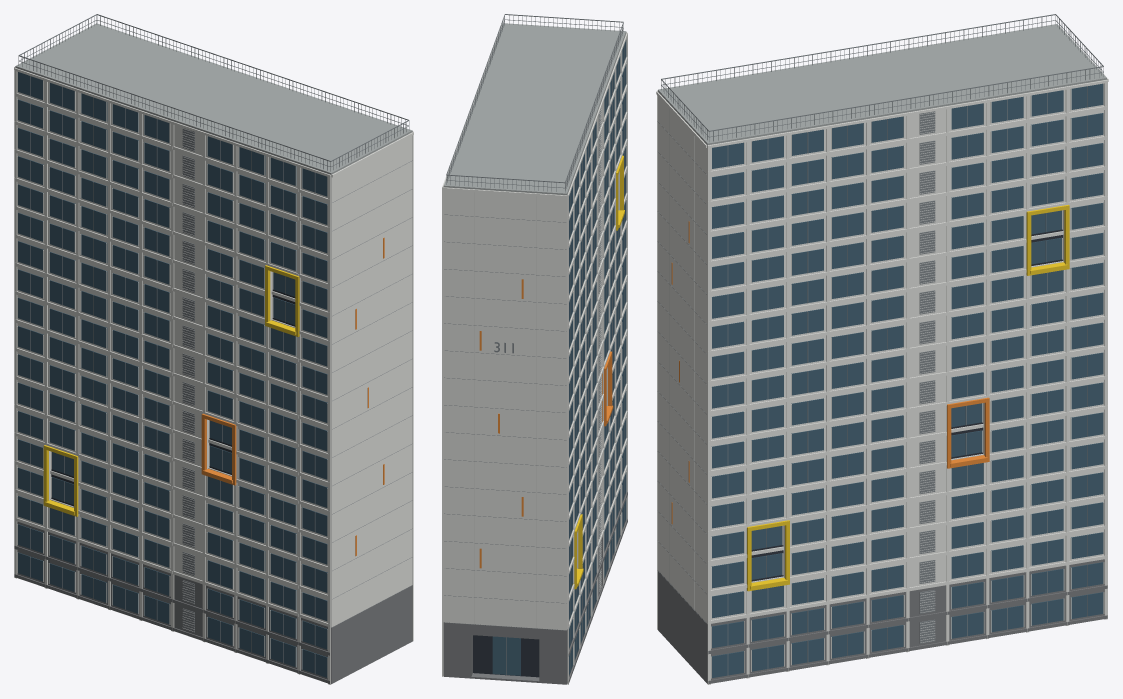
The model's file is bespoke-songpa-helio-city-311.glb.
The picture shows the model from 3 angles, left to right: view 1: azimuth 30°, elevation 25°; view 2: azimuth 150°, elevation 25°; view 3: azimuth 270°, elevation 25°; orthographic projection. The views are drawn at different scales.
Parts seen in each view (by area): view 1: Helio311_editable_Helio311_white_slab_frames, Helio311_editable_Helio311_dark_blue_grey_glazing, Helio311_editable_Helio311_low_roof_deck, Helio311_editable_Helio311_grey_service_grille, Helio311_editable_Helio311_dark_grey_twofloor_base, Helio311_editable_Helio311_blankwall_grey_panels, Helio311_editable_Helio311_yellow_projecting_rectangular_fra, Helio311_editable_Helio311_orange_narrow_accent; view 2: Helio311_editable_Helio311_white_slab_frames, Helio311_editable_Helio311_low_roof_deck, Helio311_editable_Helio311_dark_blue_grey_glazing, Helio311_editable_Helio311_grey_service_grille, Helio311_editable_Helio311_dark_grey_twofloor_base, Helio311_editable_Helio311_blankwall_grey_panels, Helio311_editable_Helio311_deep_shaded_frame_recess, Helio311_editable_Helio311_yellow_projecting_rectangular_fra, Helio311_editable_Helio311_orange_narrow_accent; view 3: Helio311_editable_Helio311_dark_blue_grey_glazing, Helio311_editable_Helio311_white_slab_frames, Helio311_editable_Helio311_low_roof_deck, Helio311_editable_Helio311_grey_service_grille, Helio311_editable_Helio311_dark_grey_twofloor_base, Helio311_editable_Helio311_blankwall_grey_panels, Helio311_editable_Helio311_yellow_projecting_rectangular_fra, Helio311_editable_Helio311_orange_narrow_accent, Helio311_editable_Helio311_deep_shaded_frame_recess.
Part boxes in pixels (x1,y1,x2,y2): Helio311_editable_Helio311_white_slab_frames: (14,67,413,684); Helio311_editable_Helio311_dark_blue_grey_glazing: (18,72,327,677); Helio311_editable_Helio311_low_roof_deck: (15,23,412,174); Helio311_editable_Helio311_grey_service_grille: (18,14,412,673); Helio311_editable_Helio311_dark_grey_twofloor_base: (14,521,412,684); Helio311_editable_Helio311_blankwall_grey_panels: (182,128,194,631); Helio311_editable_Helio311_yellow_projecting_rectangular_fra: (43,265,299,516); Helio311_editable_Helio311_orange_narrow_accent: (201,237,384,556); Helio311_editable_Helio311_white_slab_frames: (442,24,627,684); Helio311_editable_Helio311_low_roof_deck: (443,23,626,195); Helio311_editable_Helio311_dark_blue_grey_glazing: (492,40,626,675); Helio311_editable_Helio311_grey_service_grille: (444,14,624,675); Helio311_editable_Helio311_dark_grey_twofloor_base: (443,492,627,684); Helio311_editable_Helio311_blankwall_grey_panels: (474,108,601,628); Helio311_editable_Helio311_deep_shaded_frame_recess: (473,635,539,677); Helio311_editable_Helio311_yellow_projecting_rectangular_fra: (572,155,624,589); Helio311_editable_Helio311_orange_narrow_accent: (479,279,613,568); Helio311_editable_Helio311_dark_blue_grey_glazing: (711,83,1103,677); Helio311_editable_Helio311_white_slab_frames: (656,27,1108,684); Helio311_editable_Helio311_low_roof_deck: (658,24,1106,144); Helio311_editable_Helio311_grey_service_grille: (657,14,1103,675); Helio311_editable_Helio311_dark_grey_twofloor_base: (658,559,1107,683); Helio311_editable_Helio311_blankwall_grey_panels: (669,109,935,642); Helio311_editable_Helio311_yellow_projecting_rectangular_fra: (747,204,1069,591); Helio311_editable_Helio311_orange_narrow_accent: (671,221,989,524); Helio311_editable_Helio311_deep_shaded_frame_recess: (751,229,1062,581).
Size of the model in its own units: 24.2 by 51.4 by 38.2.
